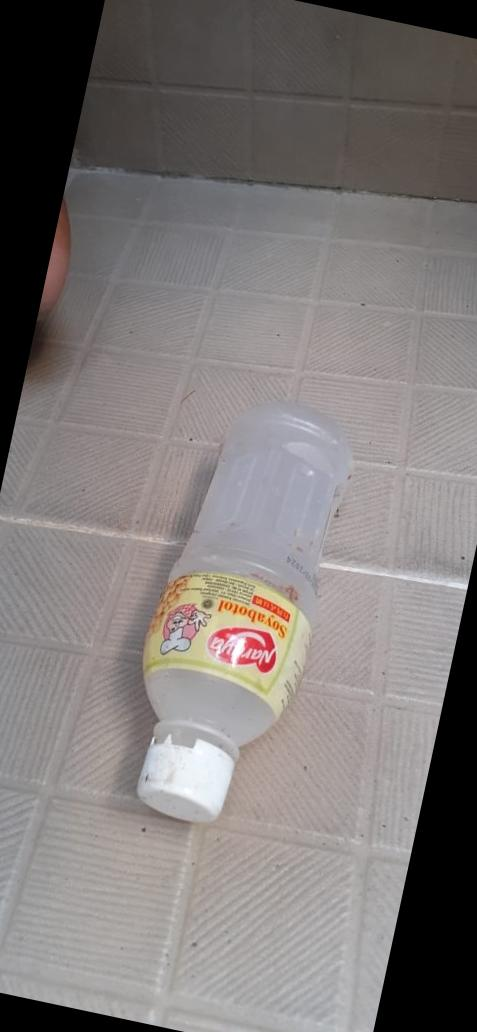Plastik: (106, 382, 364, 842)
